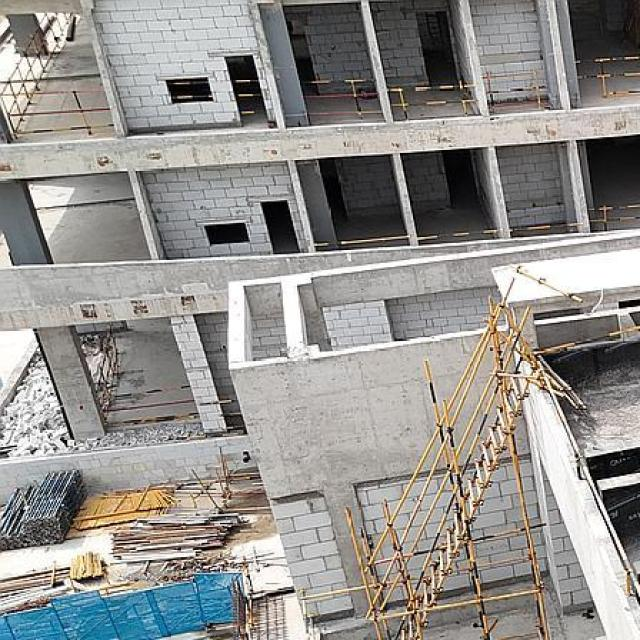edge_guardrail: (535, 361, 640, 598), (1, 12, 115, 141), (299, 78, 382, 121), (386, 84, 478, 119), (540, 324, 640, 354), (574, 56, 640, 98), (482, 71, 547, 113), (314, 234, 409, 252), (588, 203, 640, 232), (101, 398, 195, 413), (96, 331, 117, 389), (417, 228, 497, 242), (232, 79, 262, 115), (166, 80, 214, 100), (508, 221, 578, 232)
